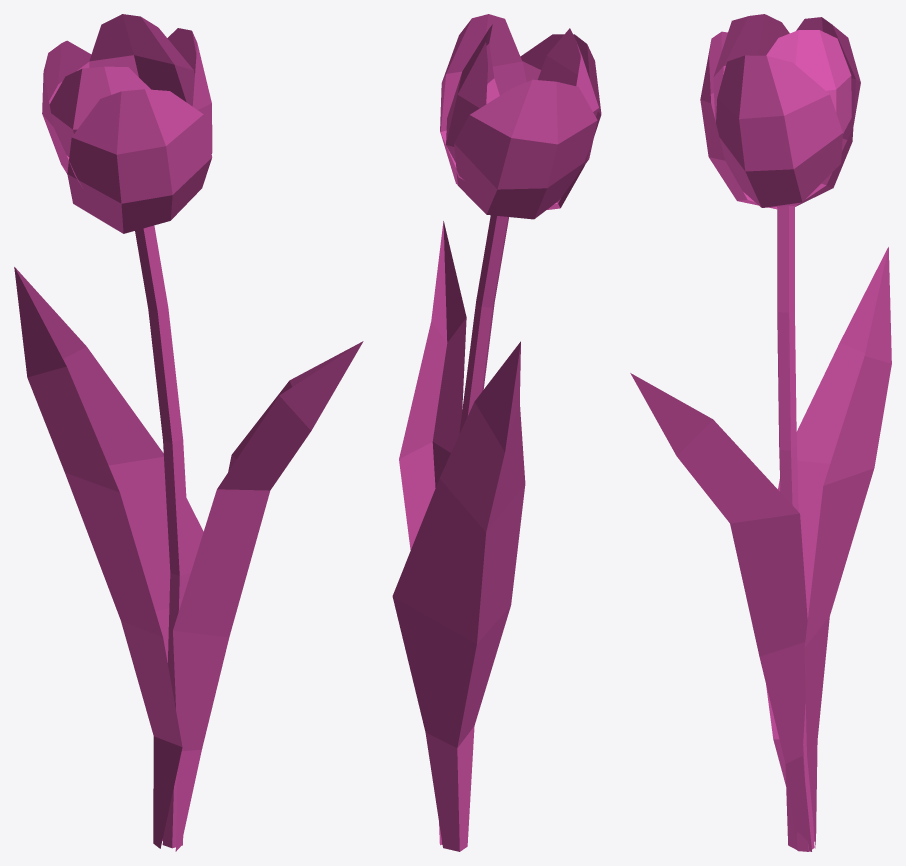
Rendered from flower.glb.
3 renders of one model, left to right at view 1: azimuth 30°, elevation 25°; view 2: azimuth 150°, elevation 25°; view 3: azimuth 270°, elevation 25°, orthographic. The views are drawn at different scales.
Visible parts, largest first — view 1: uploads_files_1916312_tulips_alutaroma_free; view 2: uploads_files_1916312_tulips_alutaroma_free; view 3: uploads_files_1916312_tulips_alutaroma_free.
Boxes of the visible parts, x1,y1,x2,y2 form: uploads_files_1916312_tulips_alutaroma_free: (14, 14, 363, 851); uploads_files_1916312_tulips_alutaroma_free: (392, 14, 601, 851); uploads_files_1916312_tulips_alutaroma_free: (630, 14, 891, 851).
Size of the model in its own units: 3.53 by 12.1 by 3.58.
